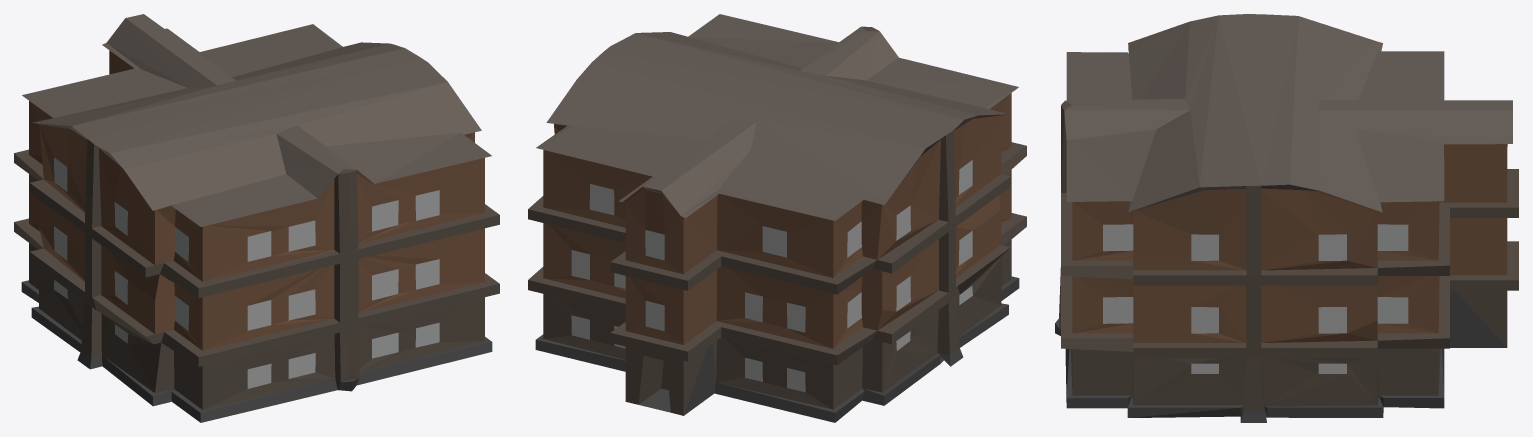
The model's file is House1_LOD2.fbx.
The picture shows the model from 3 angles, left to right: view 1: azimuth 30°, elevation 25°; view 2: azimuth 150°, elevation 25°; view 3: azimuth 270°, elevation 25°; orthographic projection. The views are drawn at different scales.
Visible parts, largest first — view 1: Cube; view 2: Cube; view 3: Cube.
Part boxes in pixels (box(x1,y1,x2,y2)): Cube: box(14, 14, 499, 422); Cube: box(528, 14, 1026, 422); Cube: box(1055, 14, 1518, 422).
Bounding box in the file's own units: 3700 × 2250 × 4050.
